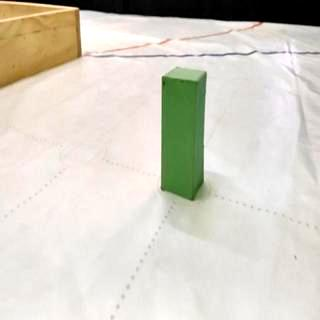greenbox: (162, 66, 206, 201)
